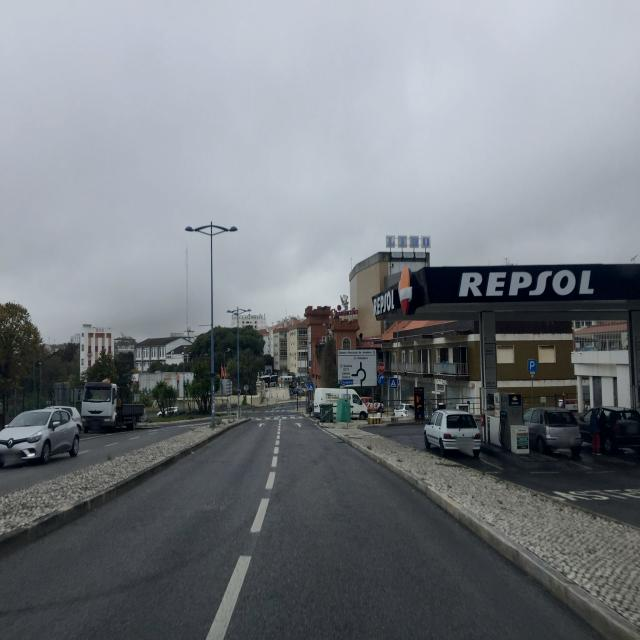car: (0, 407, 81, 468), (580, 405, 640, 458), (524, 406, 582, 458), (424, 409, 482, 458), (47, 404, 83, 430), (393, 403, 415, 417), (360, 397, 378, 413), (160, 405, 180, 416)
